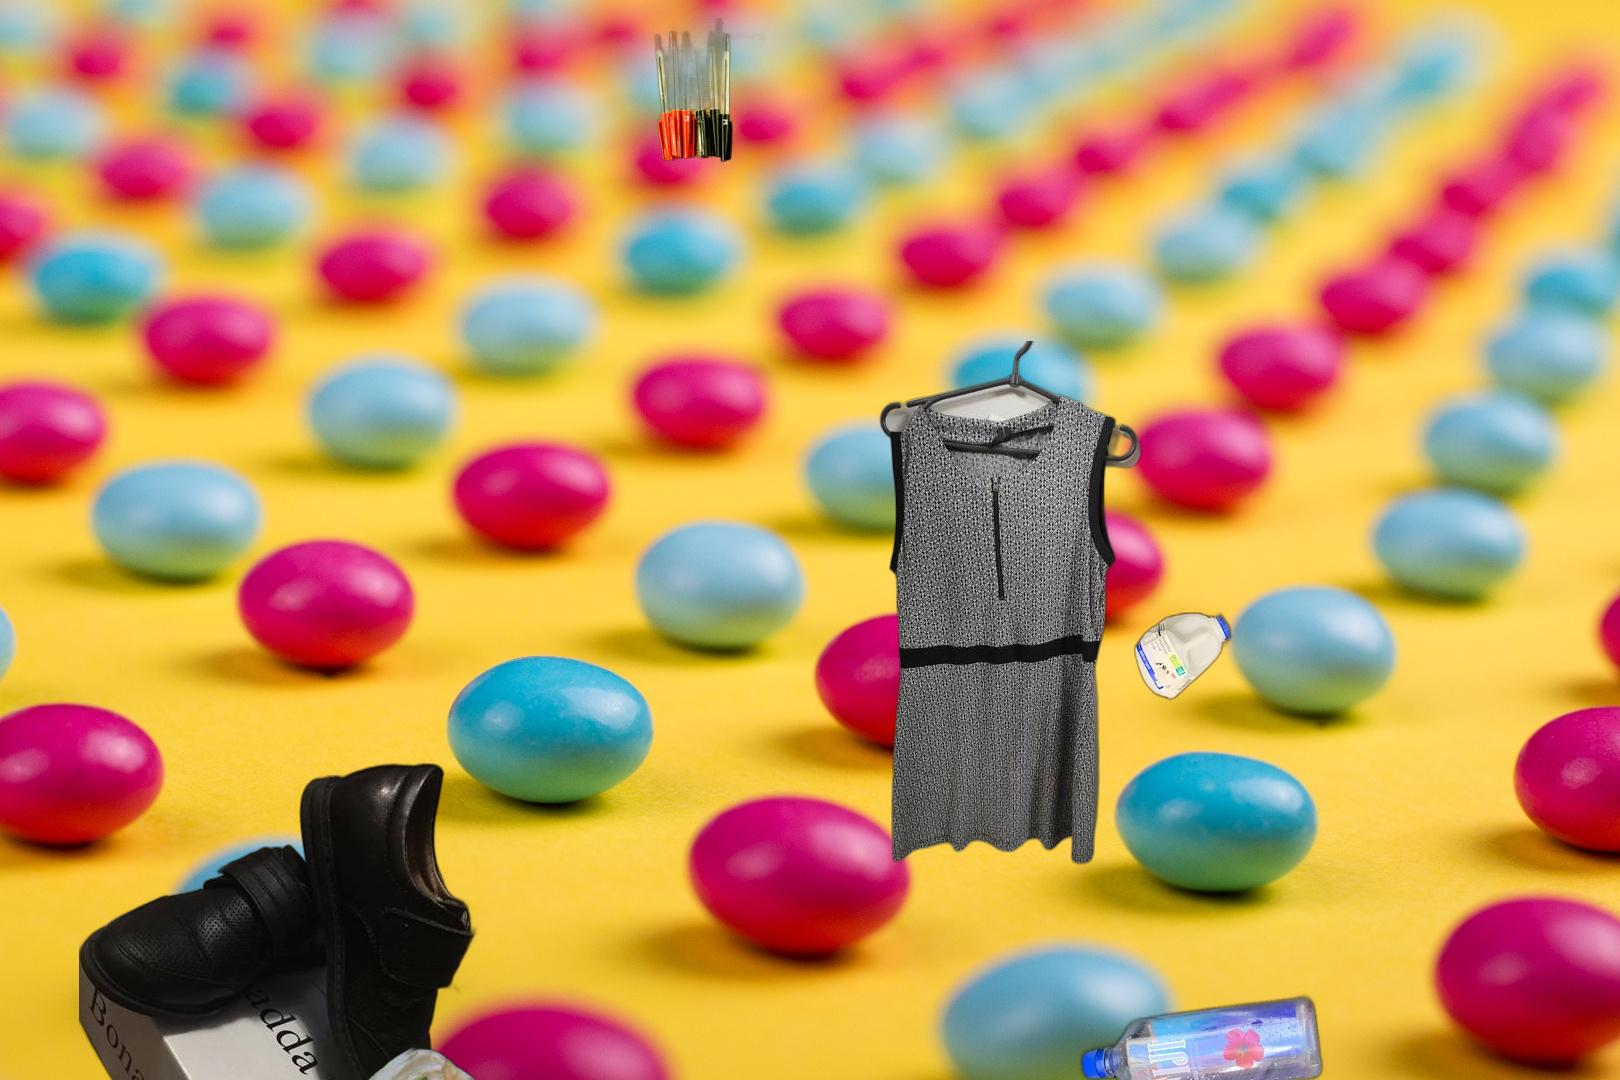biological: (260, 1045, 488, 1080)
clothes: (803, 341, 1143, 875)
penholder: (650, 18, 767, 166)
plastic-bottles: (1078, 662, 1567, 1080), (1131, 606, 1235, 705)
shoes: (80, 758, 479, 1080)
